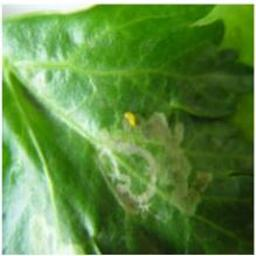liriomyza: (72, 108, 214, 218), (123, 110, 136, 126)
